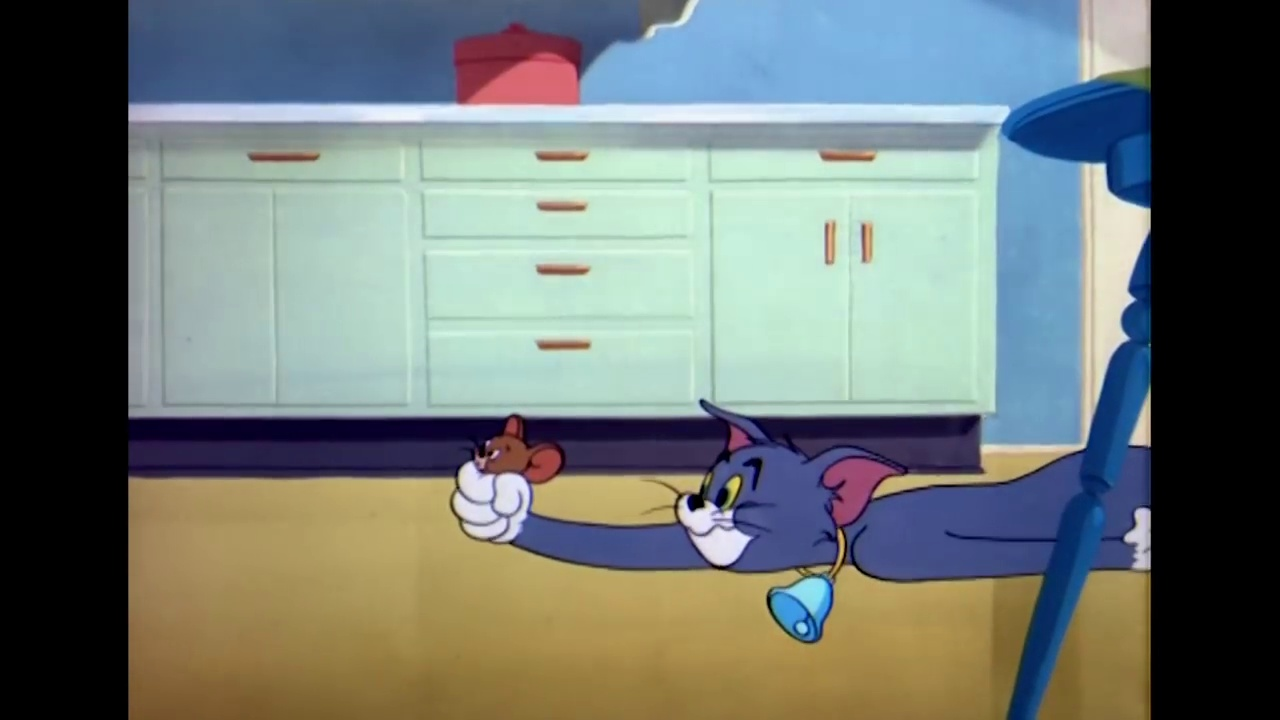tom: (671, 395, 911, 576)
